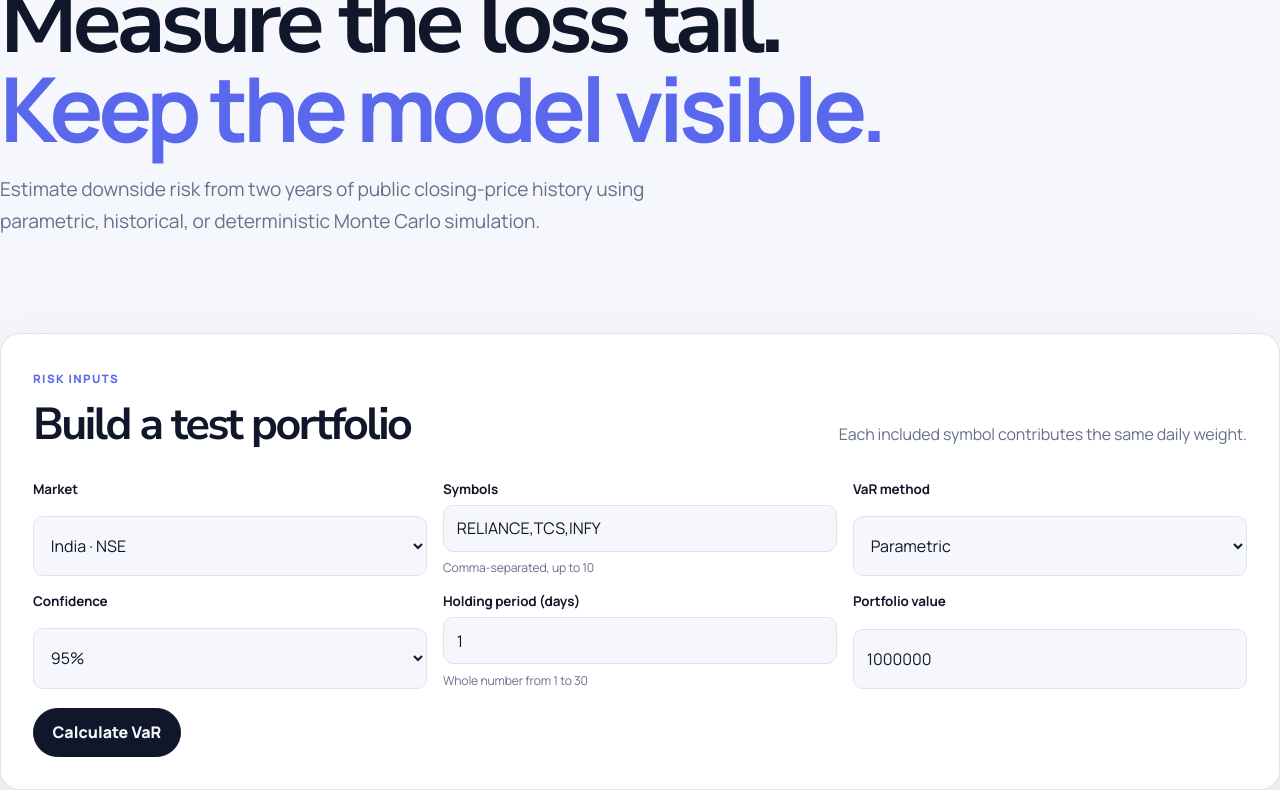
Test: Deep Dive risk journey › discloses symbols omitted from an otherwise valid calculation
(page scrolled)
Click the button "Calculate VaR" at x=107, y=732, box [33,708,181,757]
(page scrolled)
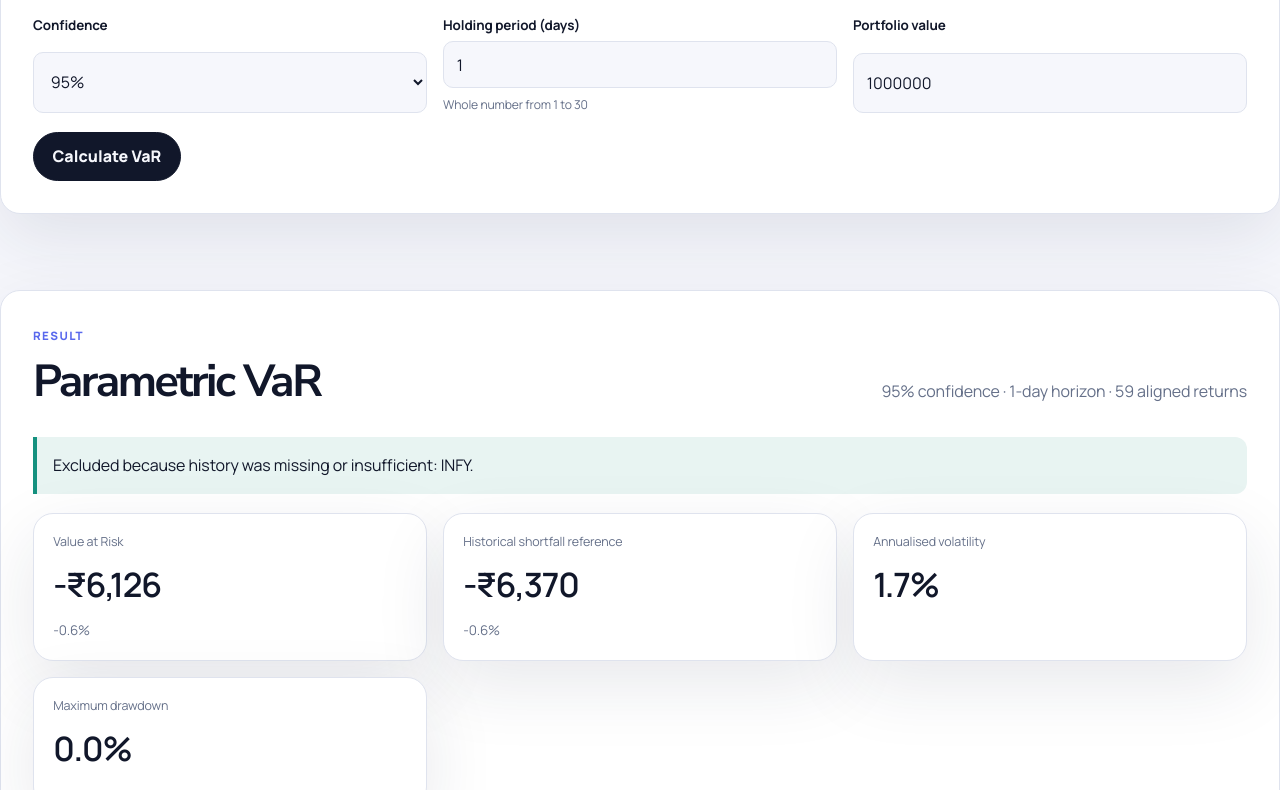
Expected: the heading "Parametric VaR" is shown, [33,351,320,412]
Expected: the message shows "INFY", [441,454,470,476]
Expected: the text "95% confidence · 1-day horizon · 59 aligned returns" is shown, [881,380,1247,402]
